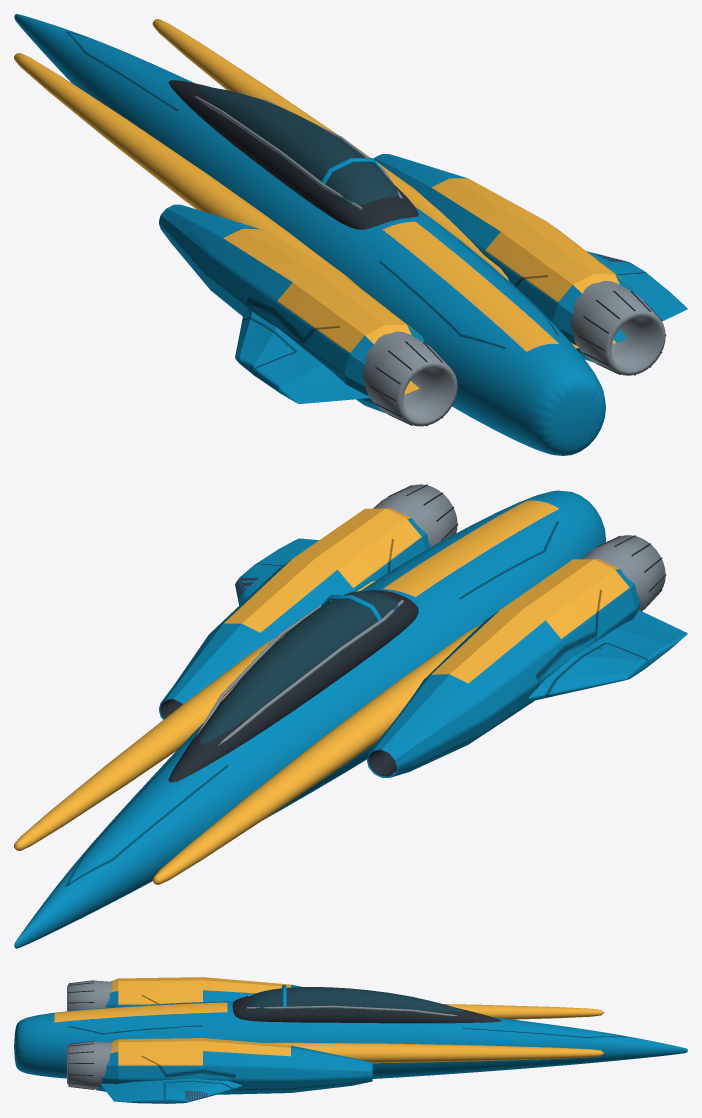
The picture shows the model from 3 angles, top to bottom: view 1: azimuth 30°, elevation 25°; view 2: azimuth 150°, elevation 25°; view 3: azimuth 270°, elevation 25°; orthographic projection. The views are drawn at different scales.
Visible parts, largest first — view 1: PixelNeedleV2; view 2: PixelNeedleV2; view 3: PixelNeedleV2.
Boxes of the visible parts, x1,y1,x2,y2 form: PixelNeedleV2: (14,14,687,455); PixelNeedleV2: (14,484,687,948); PixelNeedleV2: (14,977,687,1103).
Size of the model in its own units: 1.7 by 0.6313 by 4.21.
6 materials, 2 textured.
